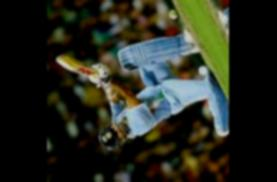batsman: (48, 20, 230, 170)
